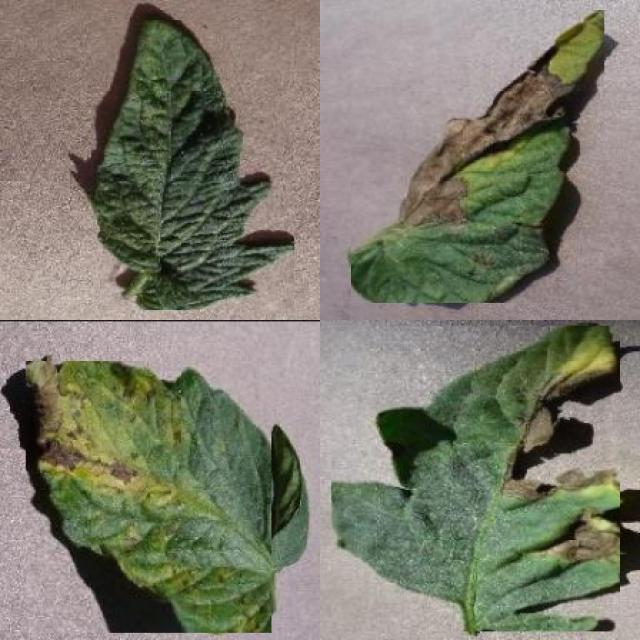Early Blight: (332, 325, 620, 632)
Late Blight: (350, 10, 604, 303)
Septoria: (25, 360, 272, 633)
Spider Mites: (92, 20, 295, 310)
